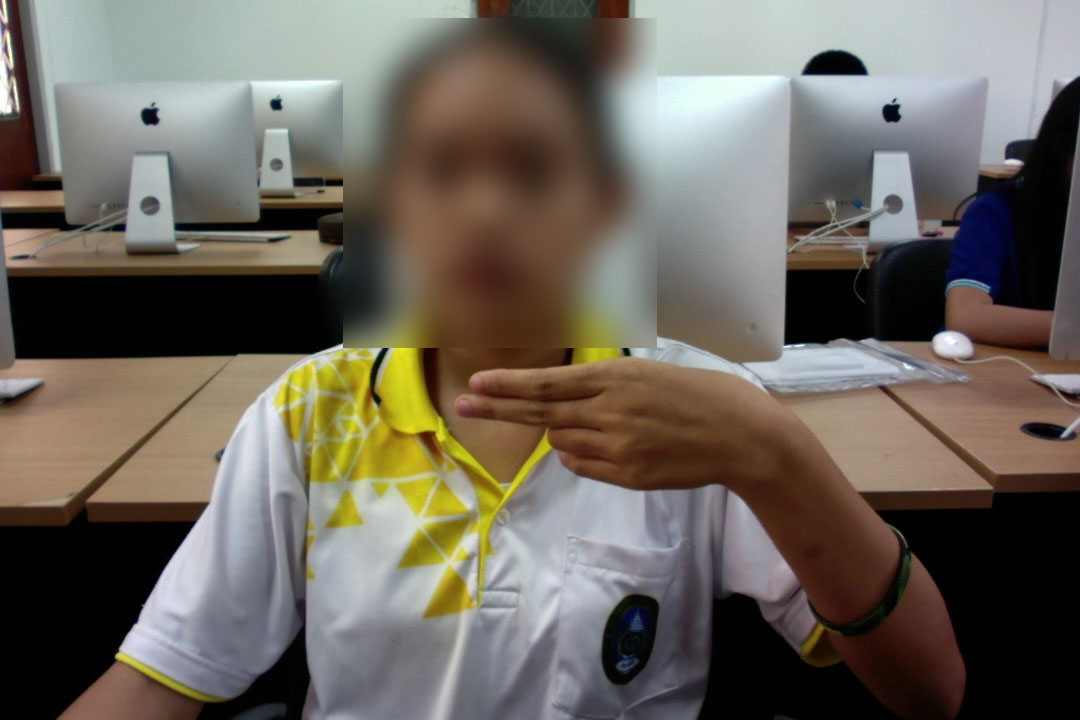hor: (445, 342, 819, 496)
